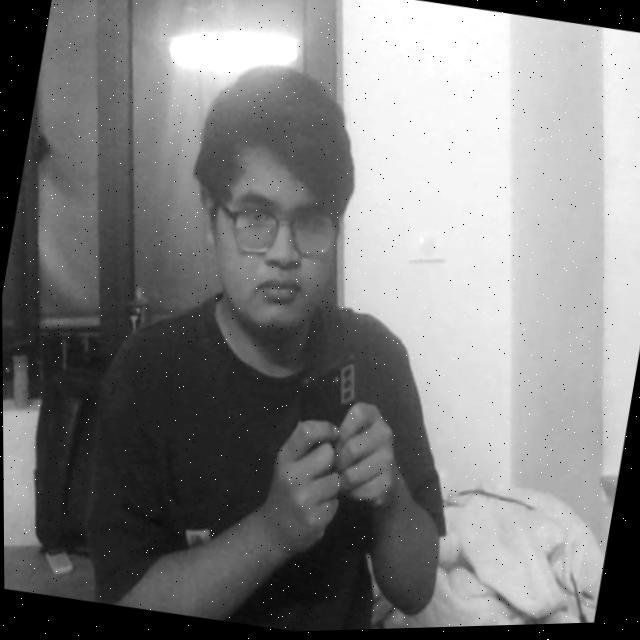phone: (252, 324, 415, 545)
